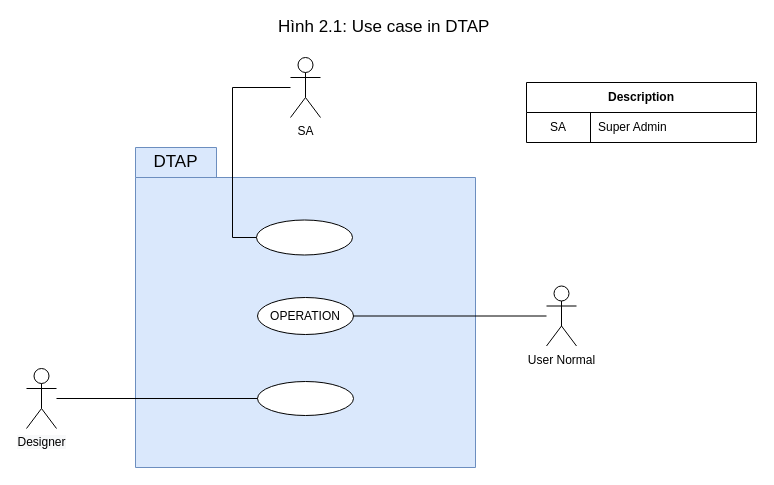
This 774x485 diagram has some shape labels left out. The centre of each missing label's shape, as x and y in pixels:
"FUNCTIONAL" belongs at point (305, 398).
"SYSTEM" belongs at point (304, 237).
